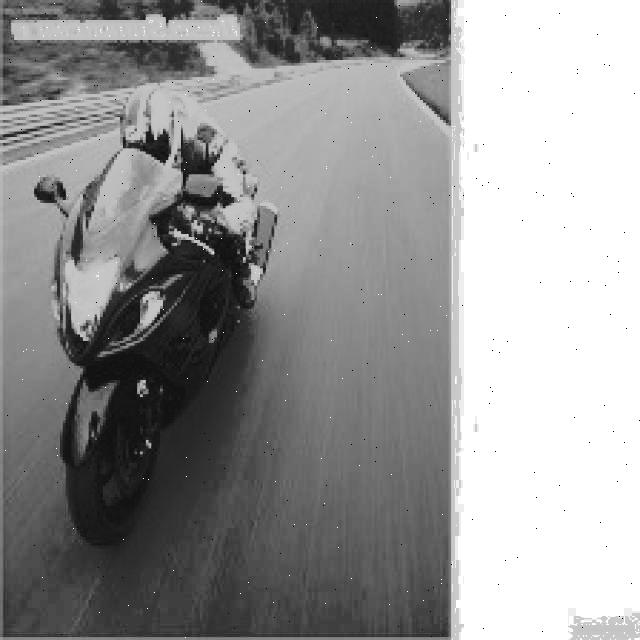Bike: (28, 142, 256, 524)
